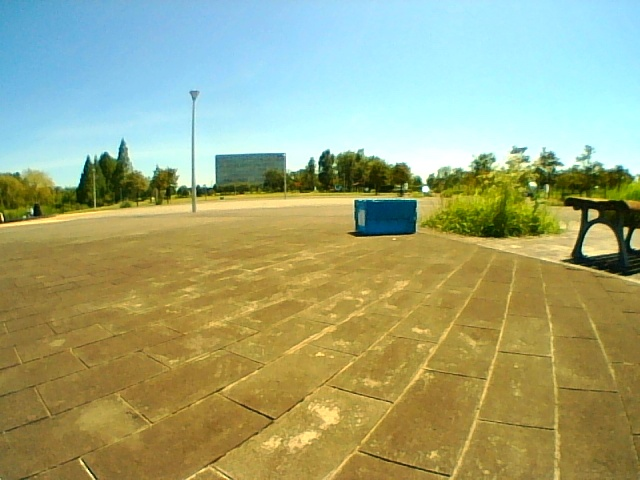blue_box: (356, 200, 416, 235)
tag: (357, 211, 365, 225)
